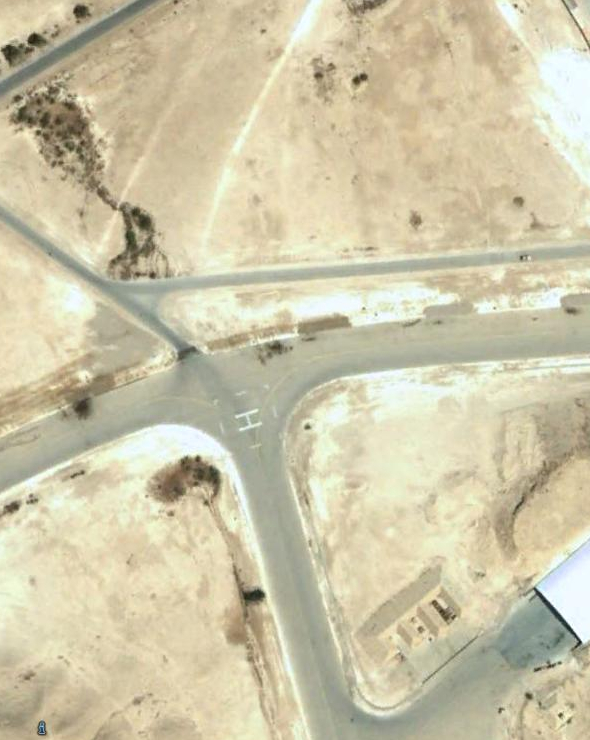heliport: (230, 402, 265, 435)
